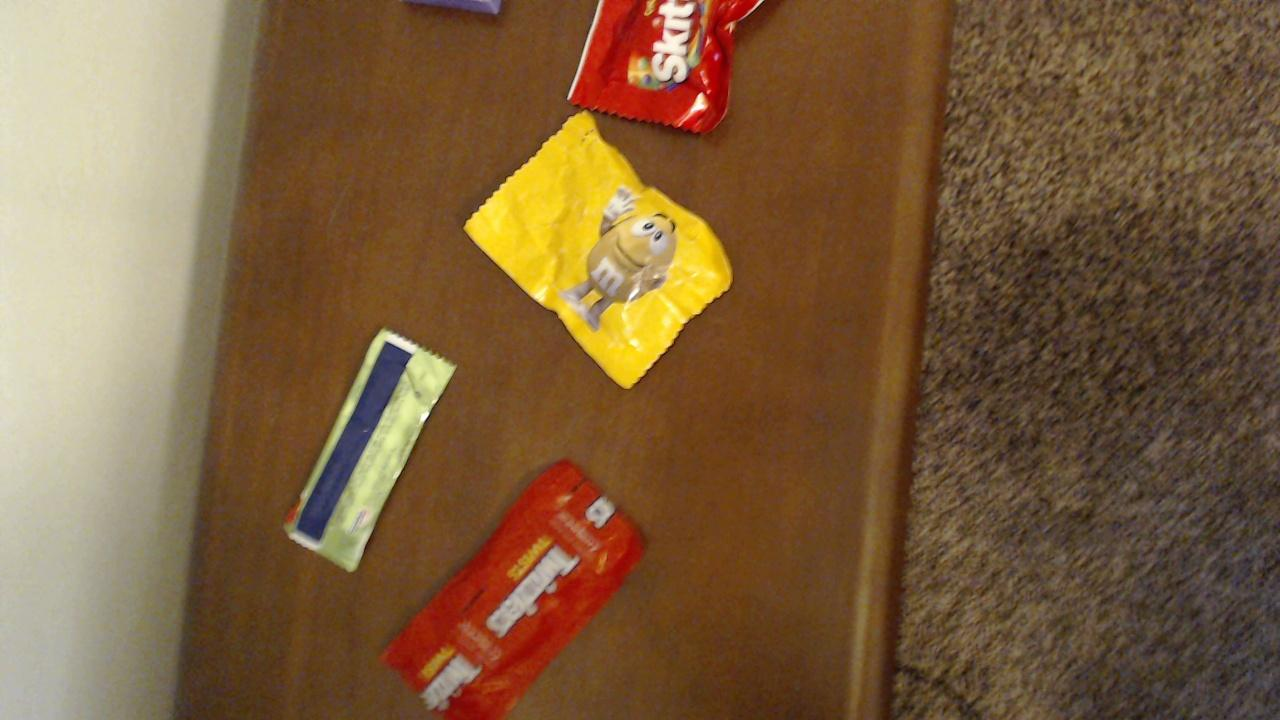MM_yellow: (445, 107, 745, 395)
skittles: (561, 0, 768, 148)
twizzlers: (357, 470, 676, 717)
